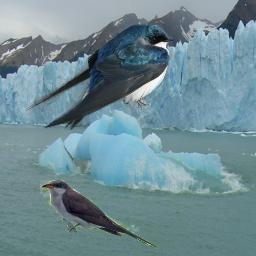Cuckoo: (40, 180, 157, 250)
Swallow: (25, 23, 173, 130)
